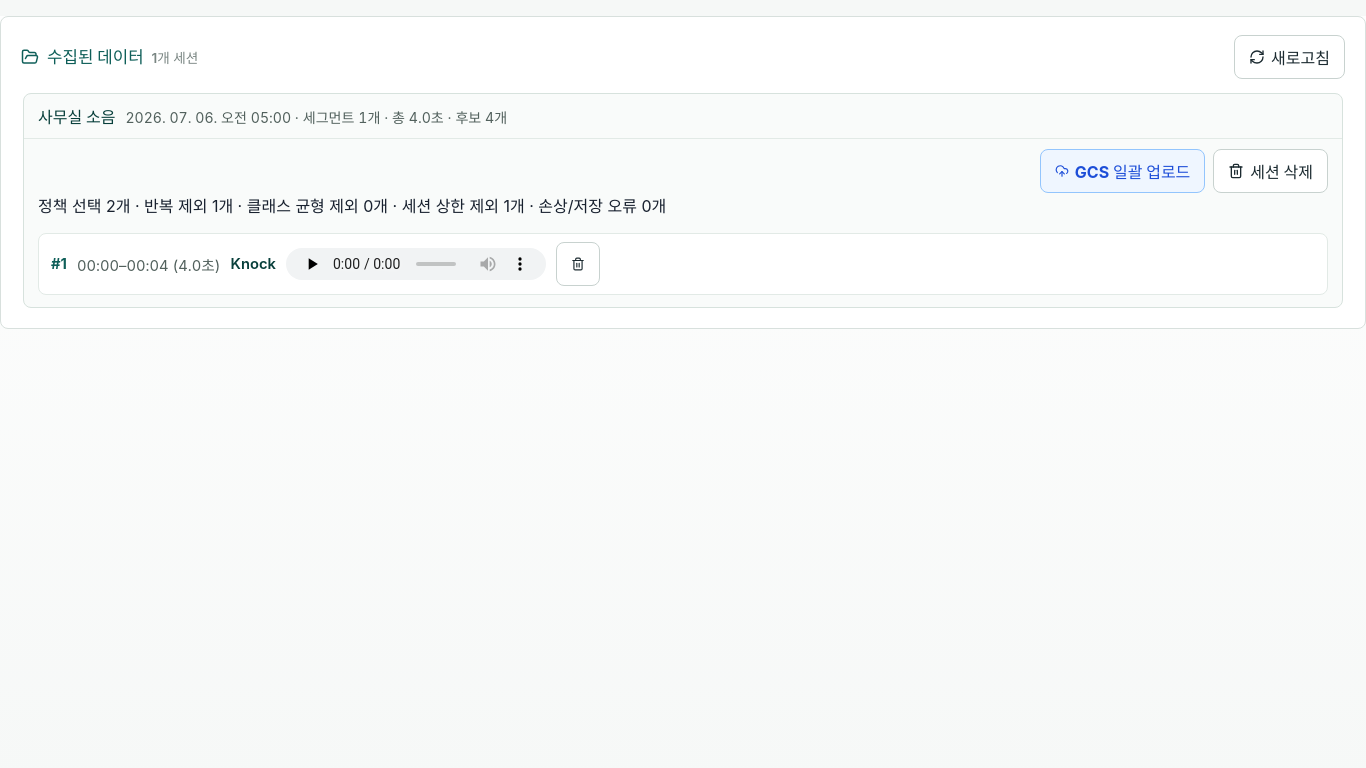
Test case: CollectedSessionsPanel › caps the GCS file progress log while preserving the latest entries
Click the button with aria-label "사무실 소음 세션 GCS 일괄 업로드" at (1123, 171), box x1=1040 y1=149 x2=1205 y2=193
(page scrolled)
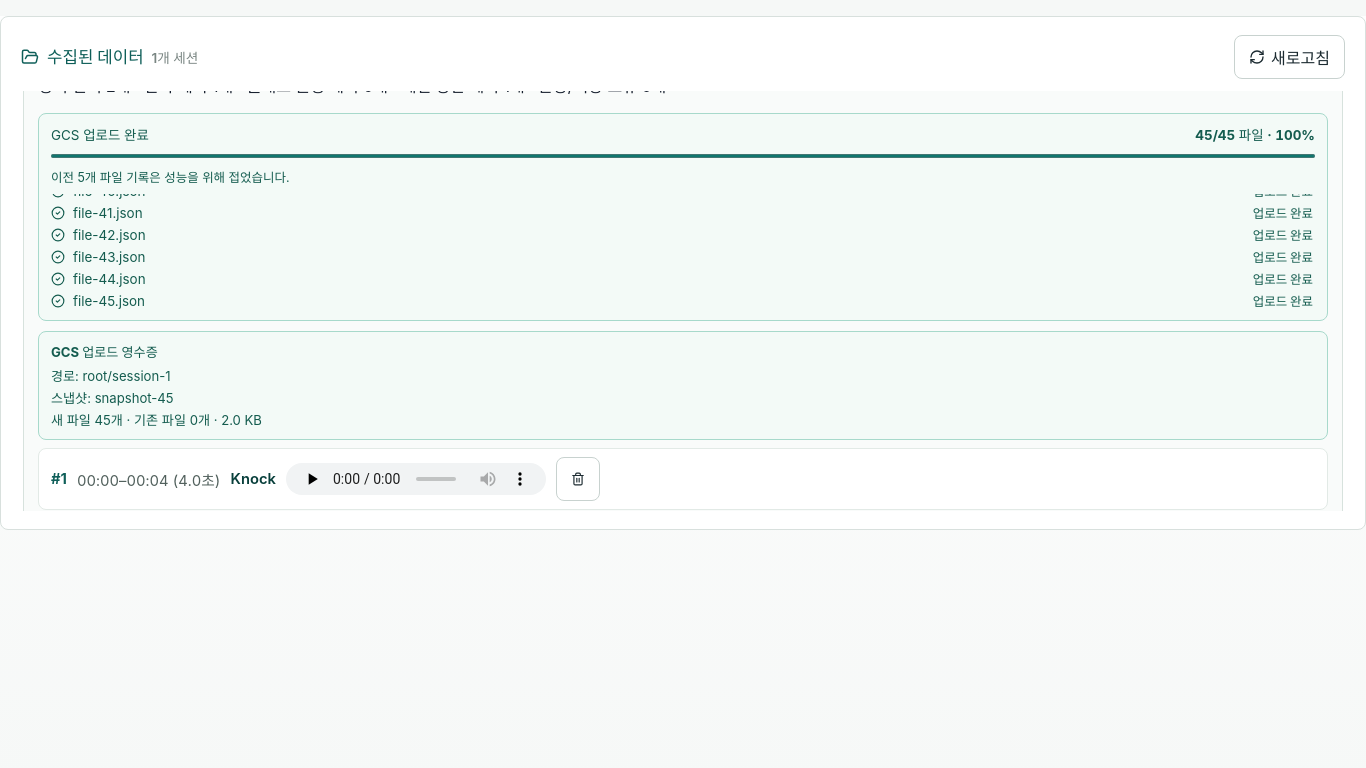
Expected: the text "이전 5개 파일 기록은 성능을 위해 접었습니다." is shown, x1=51 y1=170 x2=290 y2=185
Expected: the text "file-45.json" is shown, x1=73 y1=293 x2=145 y2=309
